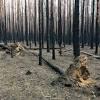smoke: (10, 63, 38, 100)
